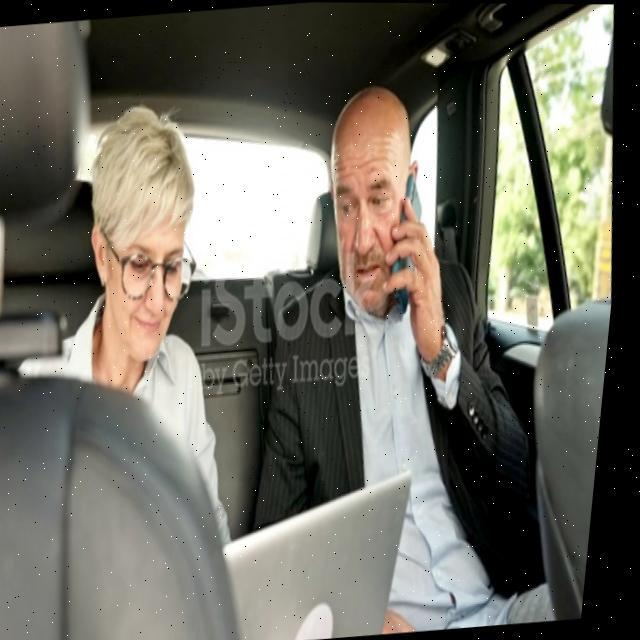PhoneCall: (379, 166, 438, 311)
